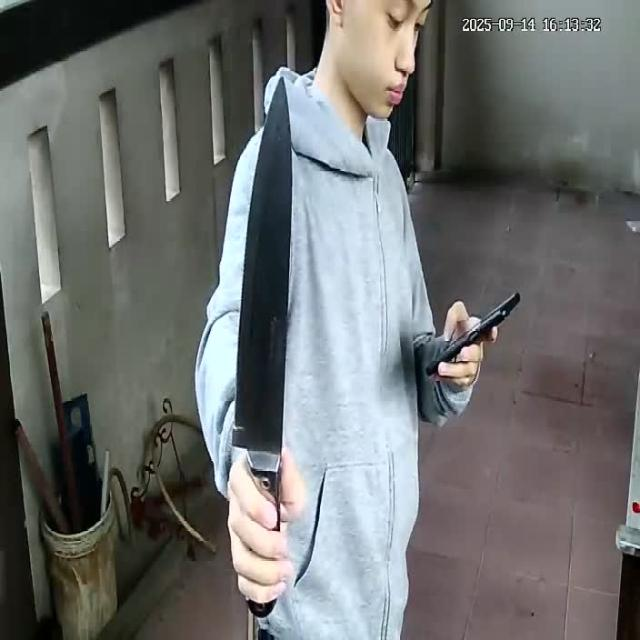senjata_tajam: (227, 71, 294, 476)
